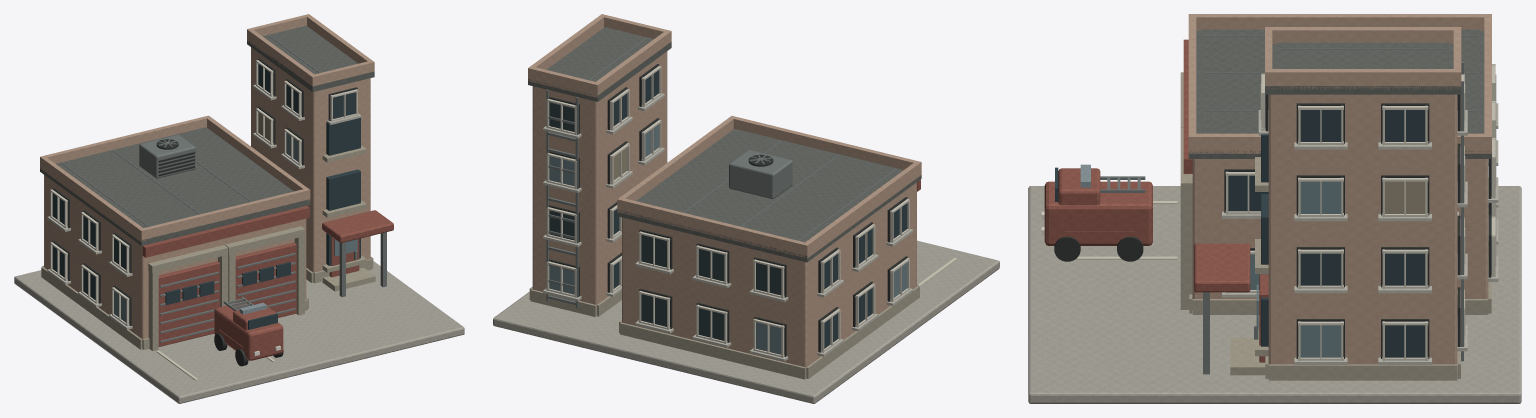
The model's file is CIV_FIRE_2x2_001.glb.
The picture shows the model from 3 angles, left to right: view 1: azimuth 30°, elevation 25°; view 2: azimuth 150°, elevation 25°; view 3: azimuth 270°, elevation 25°; orthographic projection. The views are drawn at different scales.
Visible parts, largest first — view 1: CIV_FIRE_2x2_001_Visual; view 2: CIV_FIRE_2x2_001_Visual; view 3: CIV_FIRE_2x2_001_Visual.
Part boxes in pixels (<box>): CIV_FIRE_2x2_001_Visual: <box>14,14,464,403</box>; CIV_FIRE_2x2_001_Visual: <box>493,14,999,403</box>; CIV_FIRE_2x2_001_Visual: <box>1028,14,1521,403</box>.
Size of what is drawn, in the model's own units: 3.92 by 2.85 by 3.92.
Materials: 17 (10 with a texture image).
